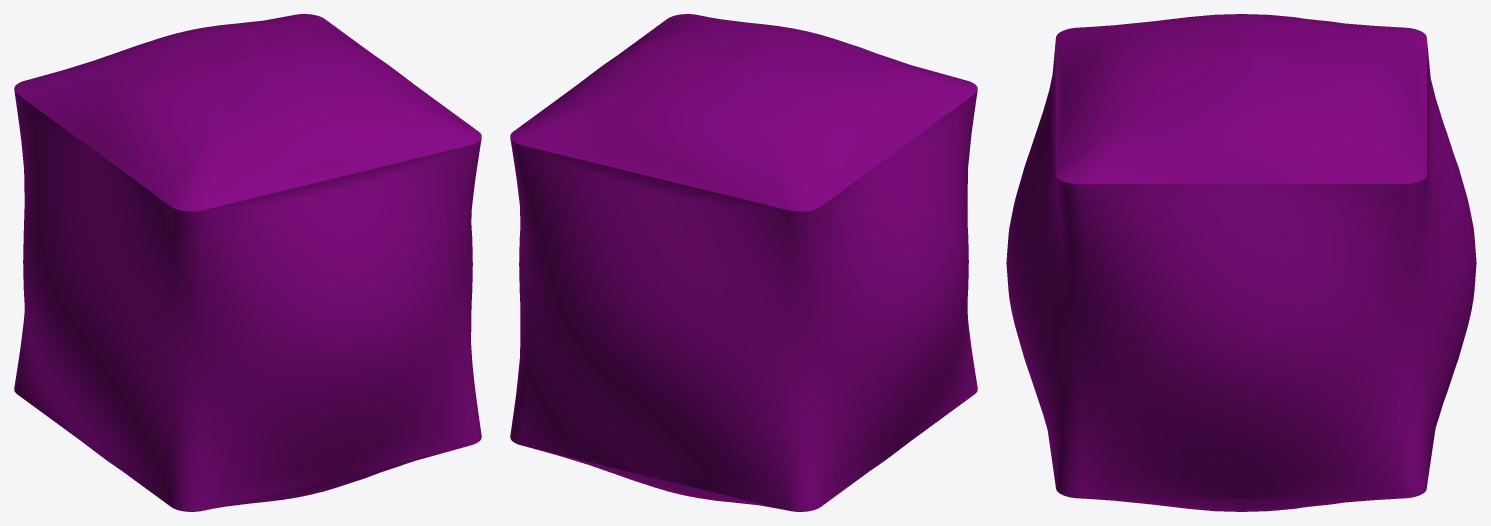
3 views of the same model, side by side, from view 1: azimuth 30°, elevation 25°; view 2: azimuth 150°, elevation 25°; view 3: azimuth 270°, elevation 25° (orthographic). The views are drawn at different scales.
Visible parts, largest first — view 1: Body1; view 2: Body1; view 3: Body1.
Boxes of the visible parts, x1=… form: Body1: x1=14, y1=14, x2=481, y2=511; Body1: x1=510, y1=14, x2=977, y2=511; Body1: x1=1006, y1=14, x2=1476, y2=511.
Bounding box in the file's own units: 241 × 241 × 241.
